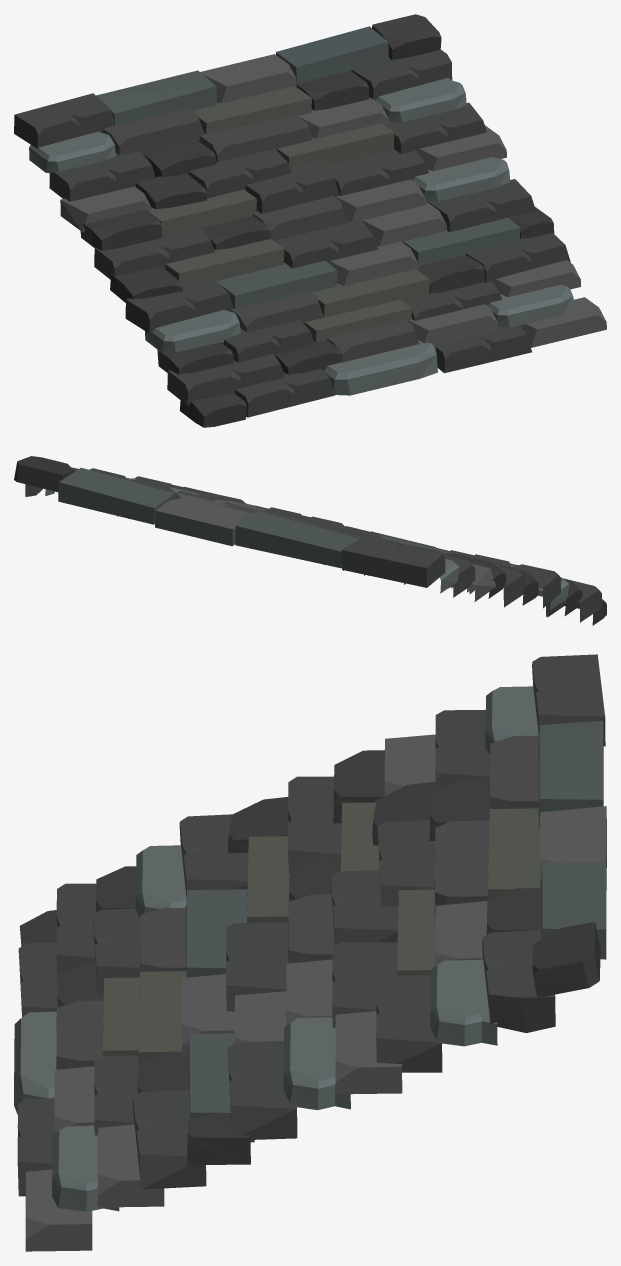
The model's file is ZLP_Stairs_A_1.FBX.
3 views of the same model, one above another, from view 1: azimuth 30°, elevation 25°; view 2: azimuth 150°, elevation 25°; view 3: azimuth 270°, elevation 25° (orthographic). The views are drawn at different scales.
Parts seen in each view (by area): view 1: ZLP_Stairs_A_1; view 2: ZLP_Stairs_A_1; view 3: ZLP_Stairs_A_1.
Boxes of the visible parts, x1,y1,x2,y2 form: ZLP_Stairs_A_1: [14, 14, 606, 427]; ZLP_Stairs_A_1: [14, 456, 606, 625]; ZLP_Stairs_A_1: [14, 654, 606, 1251].
Bounding box in the file's own units: 754 × 327 × 600.
